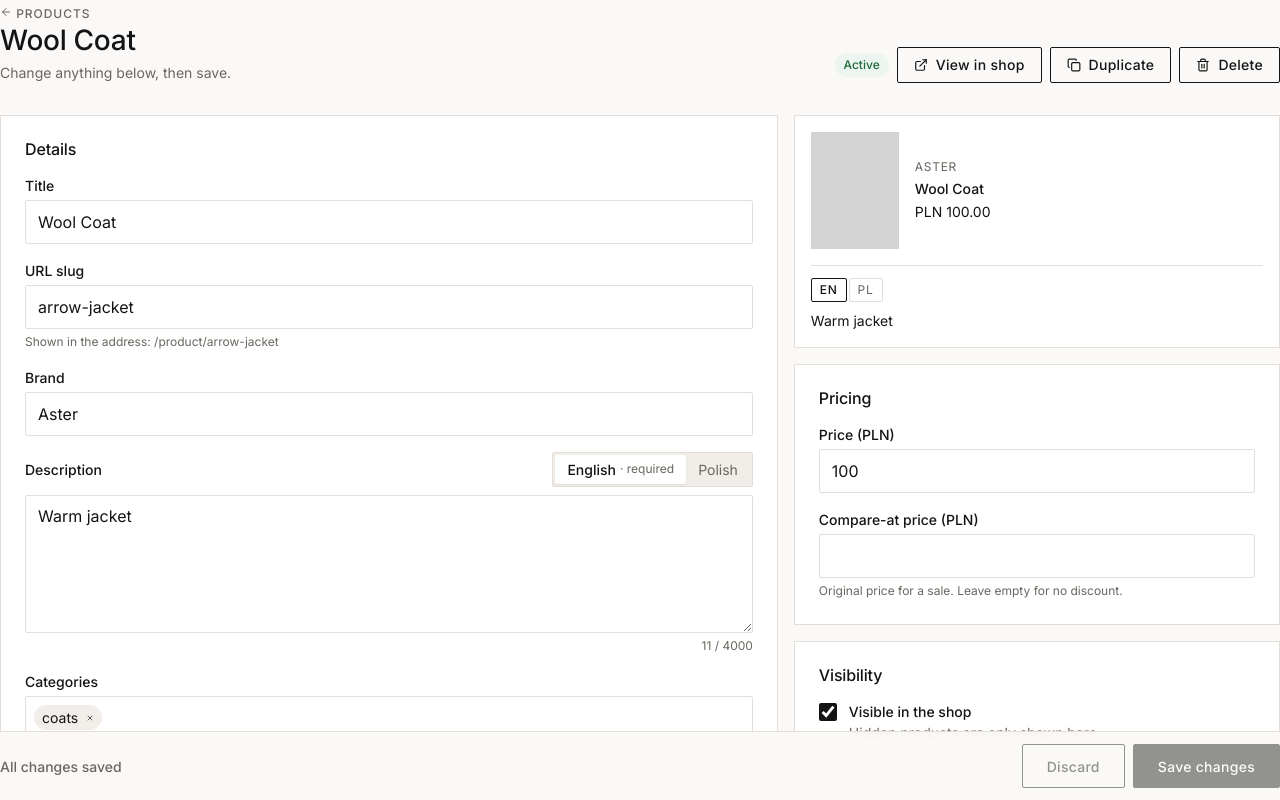
EditProduct › discards changes and checks fields before saving
Clear the field labelled "Title": [389, 222] box [25,200,753,244]
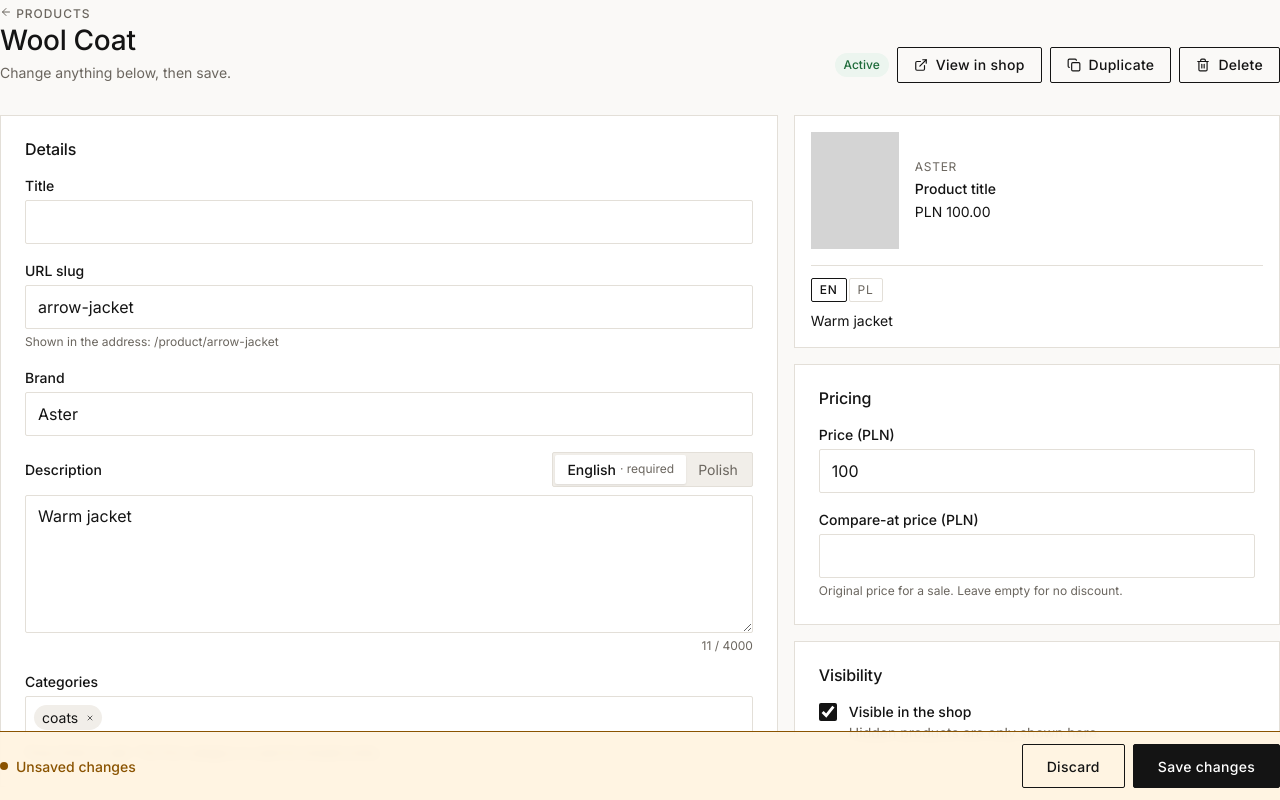
Click the button "Save changes": [1206, 766] box [1133,744,1279,788]
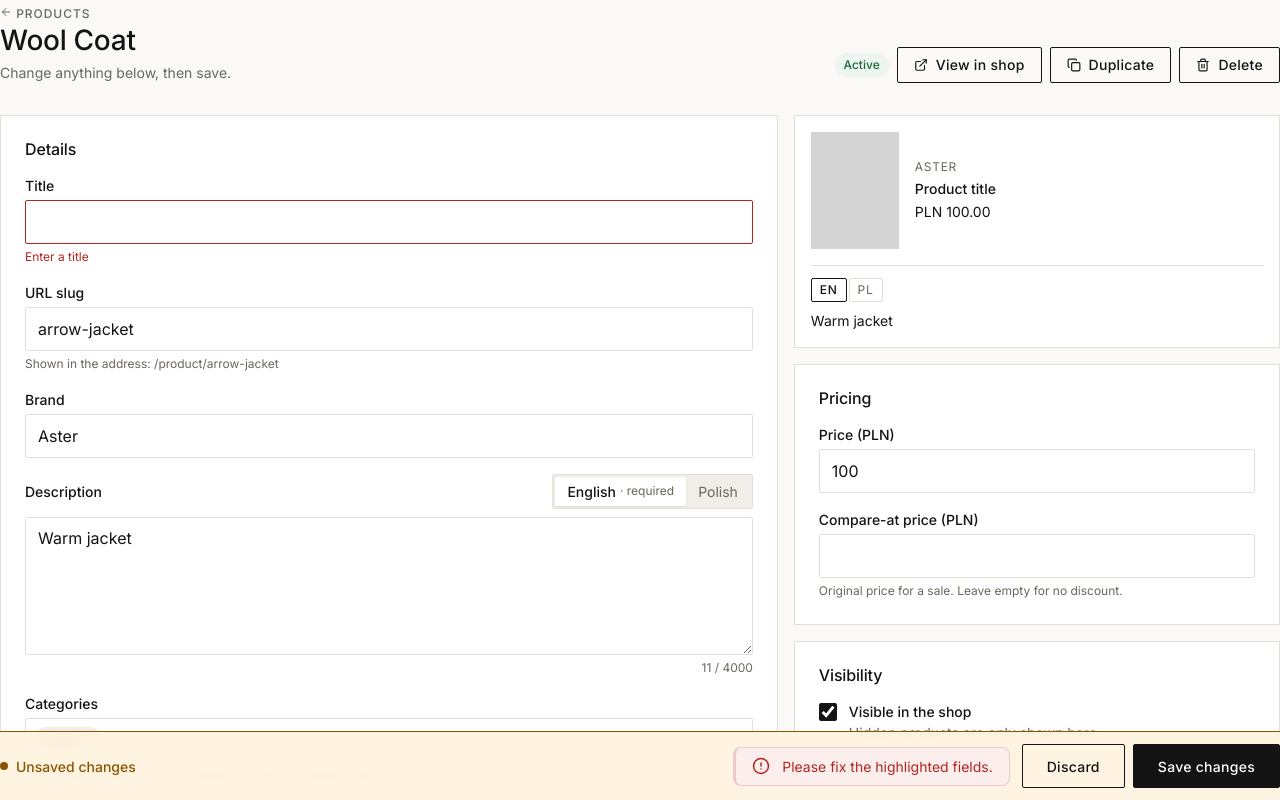
Expected: the message reads "Please fix the highlighted fields.", [782,758,993,774]
Click the button "Discard": [1073, 766] box [1022,744,1125,788]
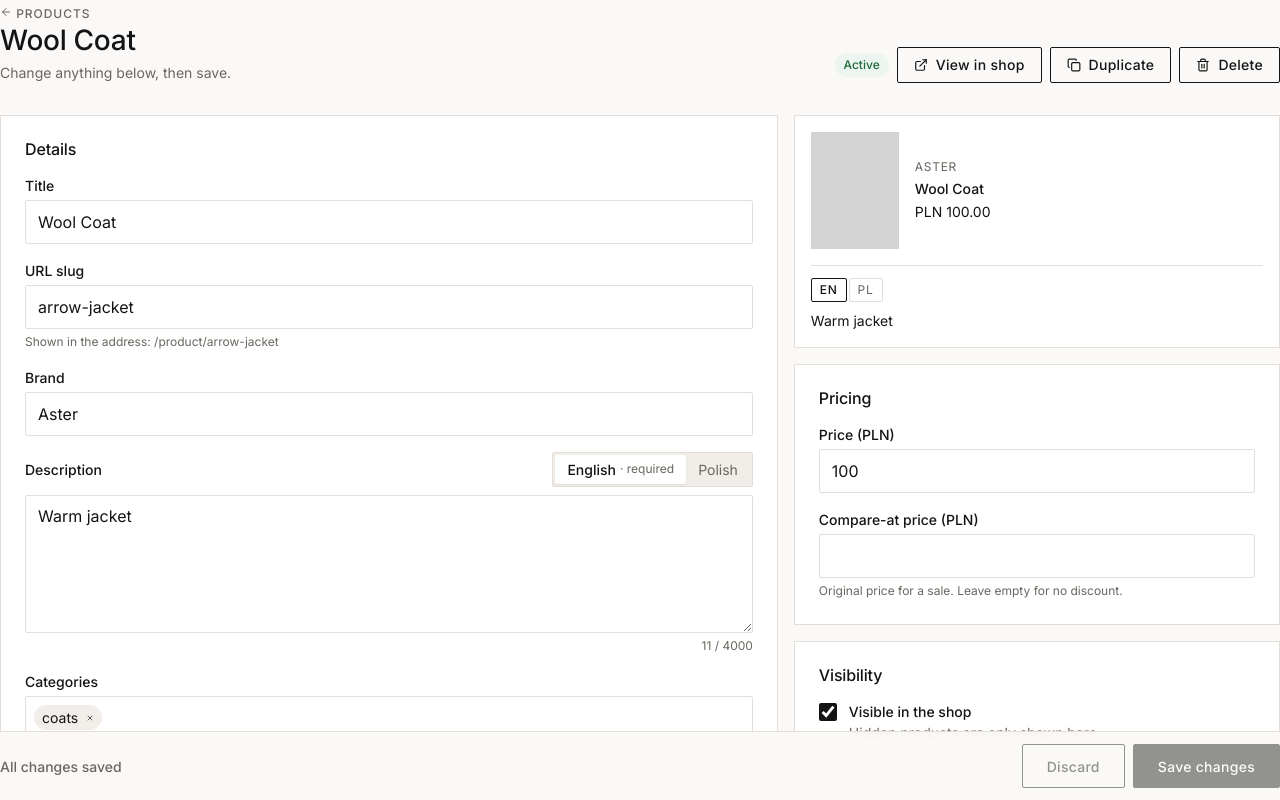
Expected: the field labelled "Title" holds "Wool Coat", [25,200,753,244]
Expected: the text "All changes saved" is shown, [0,756,122,776]
